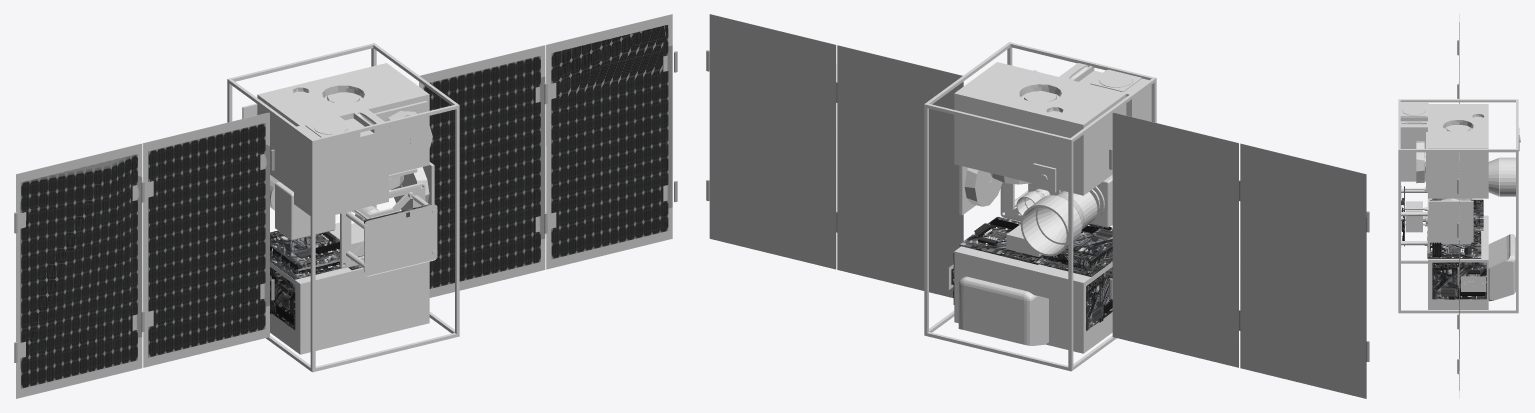
3 views of the same model, side by side, from view 1: azimuth 30°, elevation 25°; view 2: azimuth 150°, elevation 25°; view 3: azimuth 270°, elevation 25° (orthographic). The views are drawn at different scales.
Parts seen in each view (by area): view 1: SOLAR_PANEL, ION_BEAM_B, ALTITUTE_SYSTEM, ION_BEAM_T, FRAME, FOV_CAM, BATTERY, GYROZ, STAR_TRACKER, GNS, GYROX; view 2: SOLAR_PANEL, ION_BEAM_T, FRAME, ION_BEAM_B, Cube, STAR_TRACKER, BATTERY, RADIO, ALTITUTE_SYSTEM, GYROX, GNS, FOV_CAM (+1 smaller); view 3: ION_BEAM_T, FRAME, IMU, GYROX, ALTITUTE_SYSTEM, Cube, ION_BEAM_B, FOV_CAM, STAR_TRACKER, RADIO, SOLAR_PANEL, GYROZ (+2 smaller).
Part boxes in pixels (x1,y1,x2,y2): SOLAR_PANEL: (14, 14, 677, 398); ION_BEAM_B: (270, 261, 429, 354); ALTITUTE_SYSTEM: (294, 109, 388, 219); ION_BEAM_T: (257, 63, 429, 191); FRAME: (227, 43, 459, 372); FOV_CAM: (340, 183, 437, 276); BATTERY: (270, 230, 343, 279); GYROZ: (374, 101, 432, 169); STAR_TRACKER: (270, 175, 335, 240); GNS: (270, 267, 295, 330); GYROX: (391, 162, 434, 210); SOLAR_PANEL: (706, 14, 1369, 398); ION_BEAM_T: (954, 62, 1126, 195); FRAME: (924, 42, 1156, 371); ION_BEAM_B: (954, 246, 1112, 353); Cube: (958, 276, 1048, 345); STAR_TRACKER: (1020, 175, 1112, 256); BATTERY: (1035, 223, 1112, 276); RADIO: (959, 216, 1043, 264); ALTITUTE_SYSTEM: (1059, 63, 1151, 121); GYROX: (959, 165, 1002, 215); GNS: (1086, 267, 1112, 331); FOV_CAM: (1000, 182, 1062, 221); ION_BEAM_T: (1428, 104, 1488, 198); FRAME: (1398, 99, 1518, 313); IMU: (1432, 262, 1486, 299); GYROX: (1428, 198, 1473, 242); ALTITUTE_SYSTEM: (1400, 102, 1428, 181); Cube: (1488, 234, 1515, 301); ION_BEAM_B: (1428, 215, 1488, 309); FOV_CAM: (1401, 186, 1429, 253); STAR_TRACKER: (1488, 157, 1515, 196); RADIO: (1427, 231, 1481, 258); SOLAR_PANEL: (1457, 14, 1459, 398); GYROZ: (1416, 132, 1427, 191).
Bounding box in the file's own units: 18.01 × 6 × 4.07.
44 materials, 10 textured.
